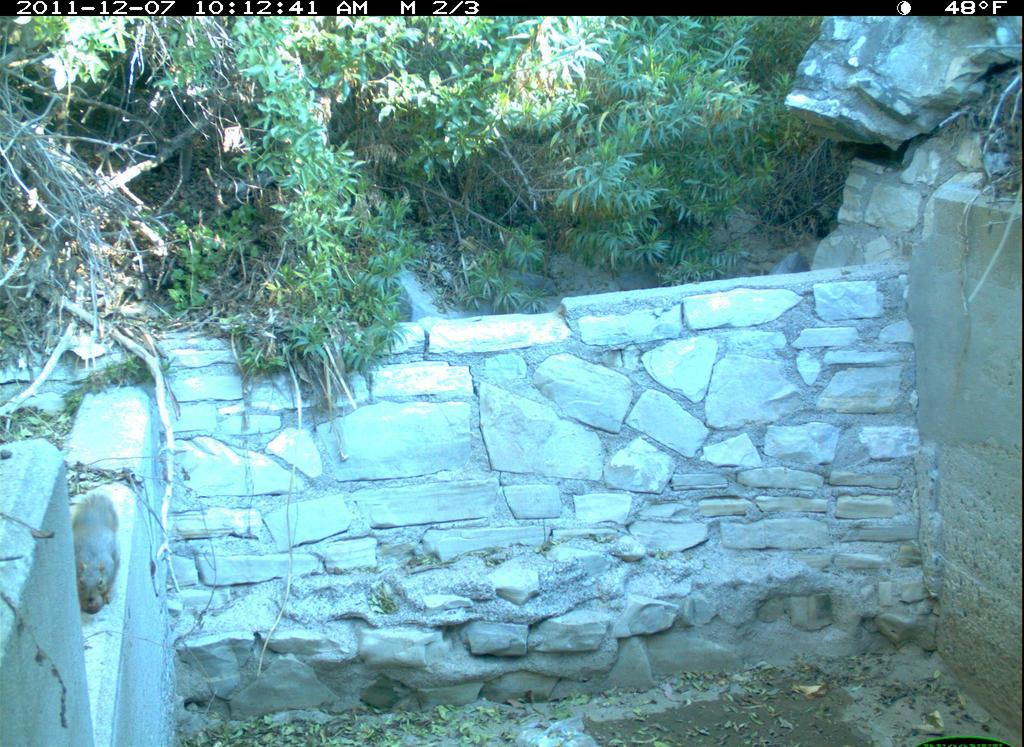squirrel: (62, 486, 130, 619)
